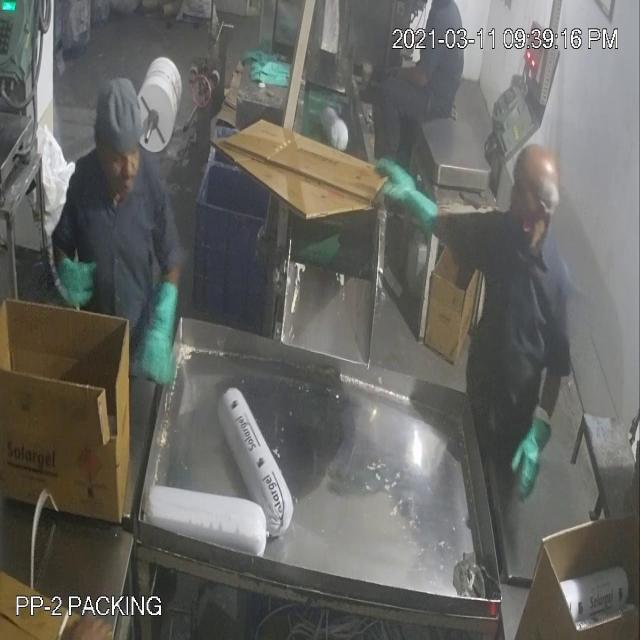No_Gloves: (57, 38, 533, 456)
